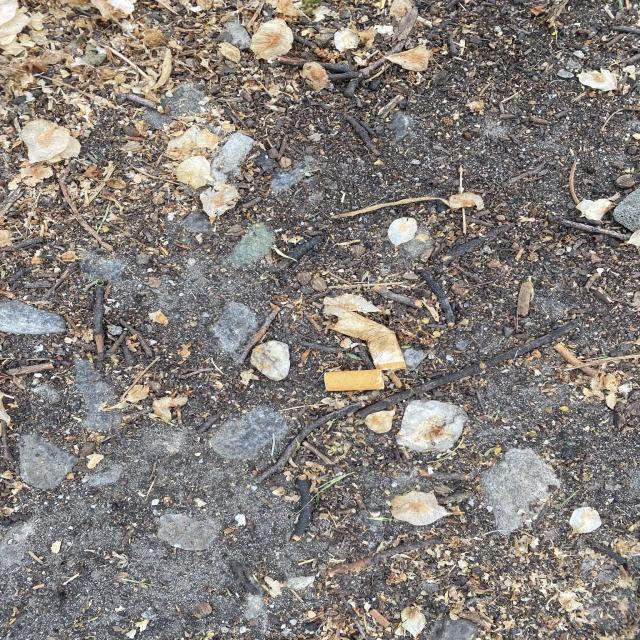other waste: (323, 293, 407, 392)
